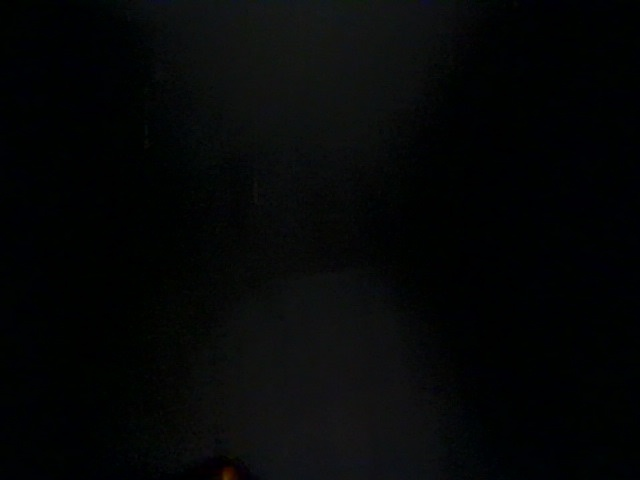QTLJ: (336, 317, 516, 480)
